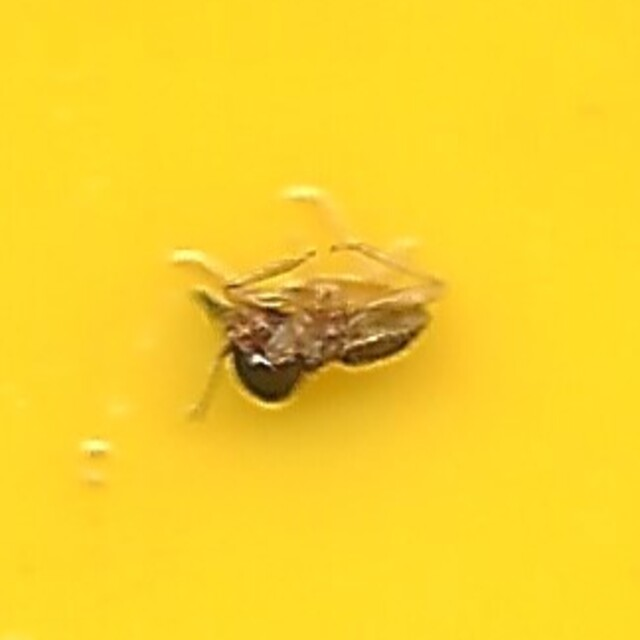Isoptera: (198, 234, 442, 406)
